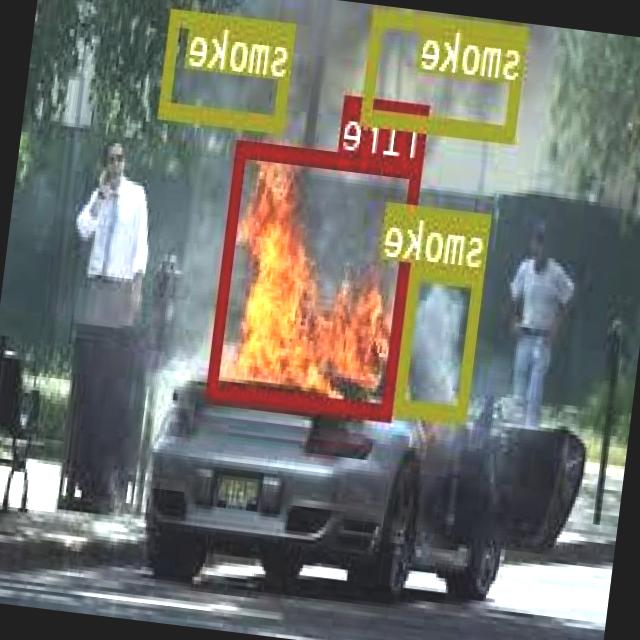fire: (208, 139, 422, 416)
smoke: (364, 6, 530, 139), (160, 6, 297, 130), (394, 259, 484, 420)
